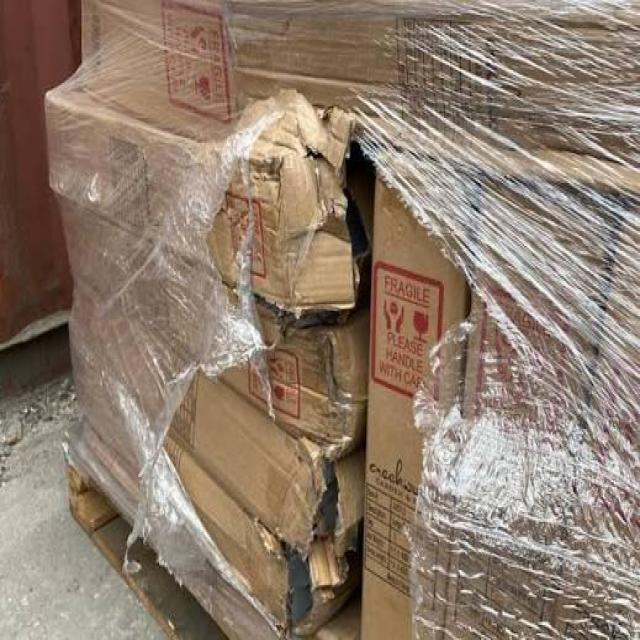fragile_label: (404, 304, 435, 350)
handle_with_care_label: (380, 290, 410, 342)
package_damage: (159, 76, 415, 636)
